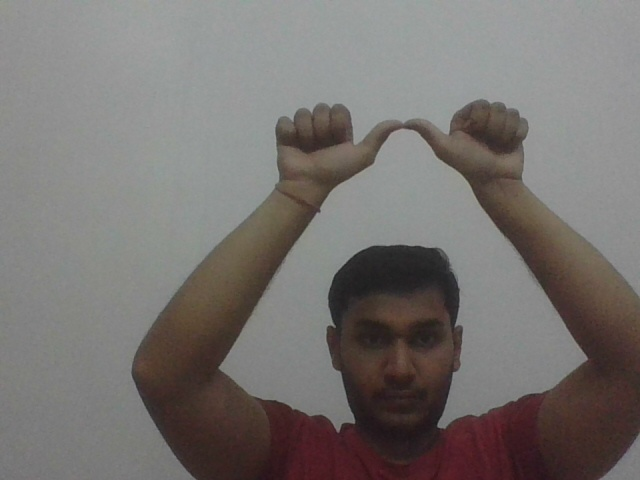A: (267, 97, 534, 181)
